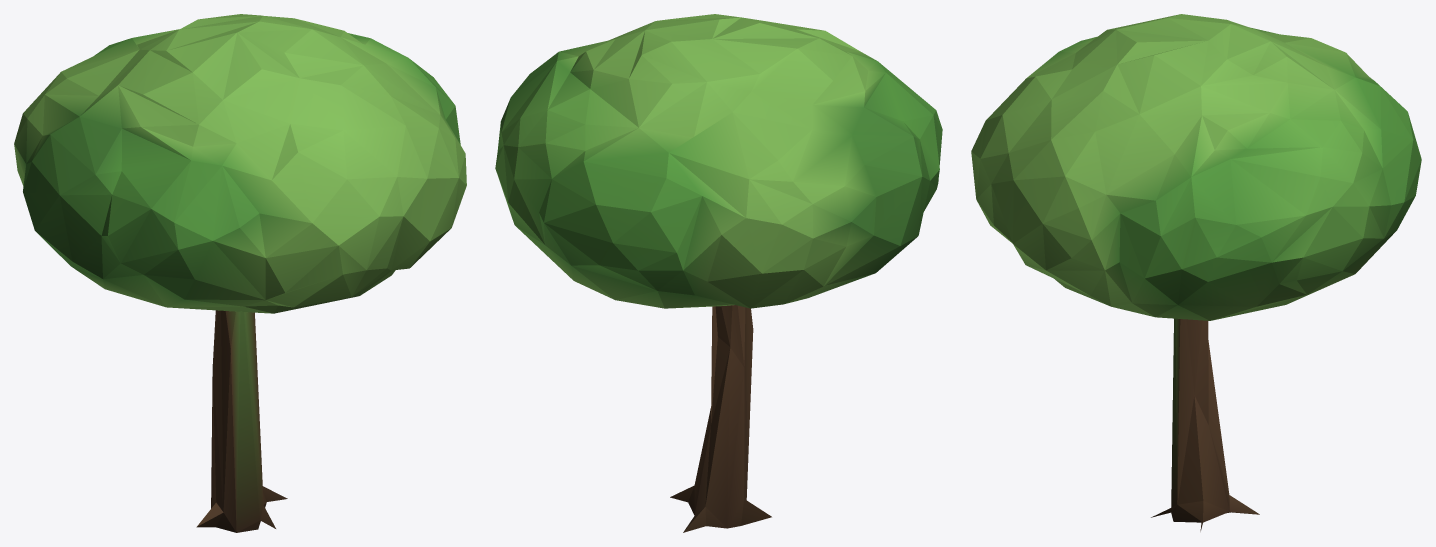
Rendered from broadleaf_mature_bushy_far.glb.
3 views of the same model, side by side, from view 1: azimuth 30°, elevation 25°; view 2: azimuth 150°, elevation 25°; view 3: azimuth 270°, elevation 25° (orthographic).
Visible parts, largest first — view 1: broadleaf_mature_bushy_LOD3; view 2: broadleaf_mature_bushy_LOD3; view 3: broadleaf_mature_bushy_LOD3.
Part boxes in pixels (x1,y1,x2,y2): broadleaf_mature_bushy_LOD3: [14, 14, 466, 532]; broadleaf_mature_bushy_LOD3: [495, 14, 942, 532]; broadleaf_mature_bushy_LOD3: [971, 14, 1421, 531].
Bounding box in the file's own units: 4.46 × 5.21 × 4.42.
